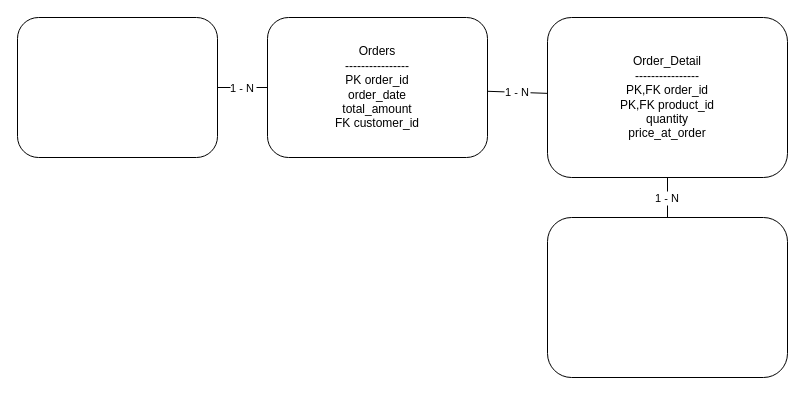
The diagram is 805 pixels wide and 395 high, and some of its shapes have lost their labels. Here are the shapes that lost their labels. From the top down, the centre of each, then its label:
the point at 117,87: Customer ---------------- PK customer_id full_name email phone address
the point at 667,297: Product ---------------- PK product_id product_name brand price stock_quantity
